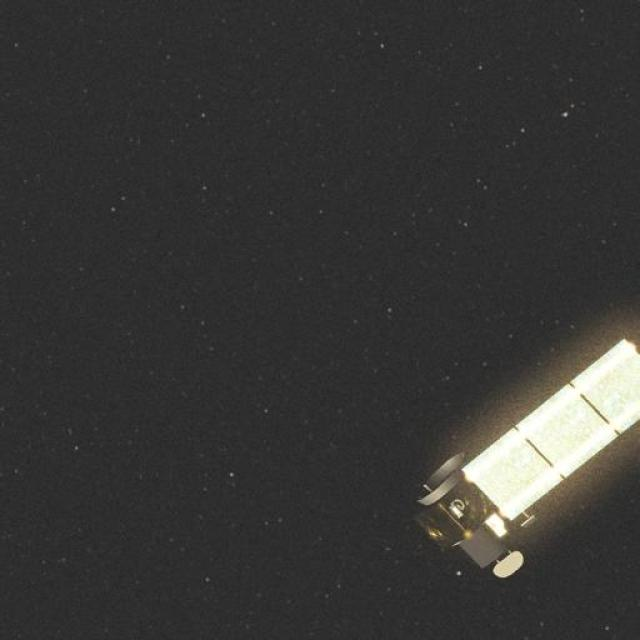earth_observation_sat_1: (386, 332, 640, 605)
